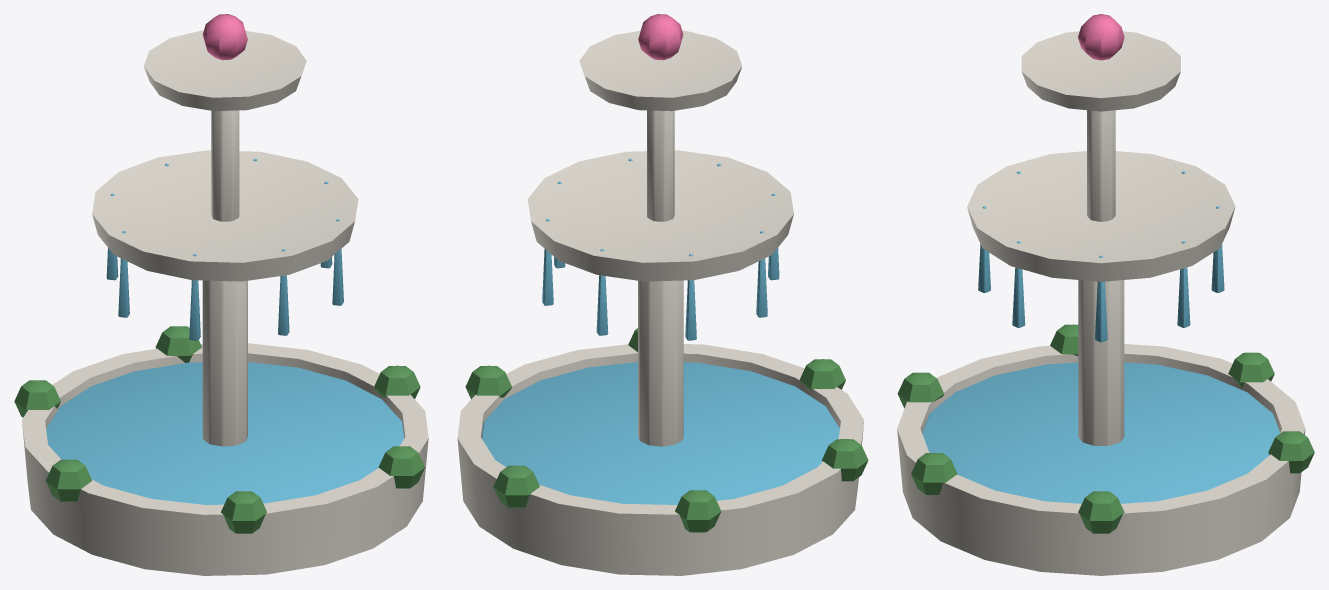
File: HeroGarden.fbx
The picture shows the model from 3 angles, left to right: view 1: azimuth 30°, elevation 25°; view 2: azimuth 150°, elevation 25°; view 3: azimuth 270°, elevation 25°; orthographic projection.
Visible parts, largest first — view 1: HeroGarden; view 2: HeroGarden; view 3: HeroGarden.
Part boxes in pixels (bbox=[...]): HeroGarden: bbox=[14, 14, 428, 575]; HeroGarden: bbox=[457, 14, 868, 575]; HeroGarden: bbox=[897, 14, 1314, 575].
Bounding box in the file's own units: 746 × 900 × 716.
